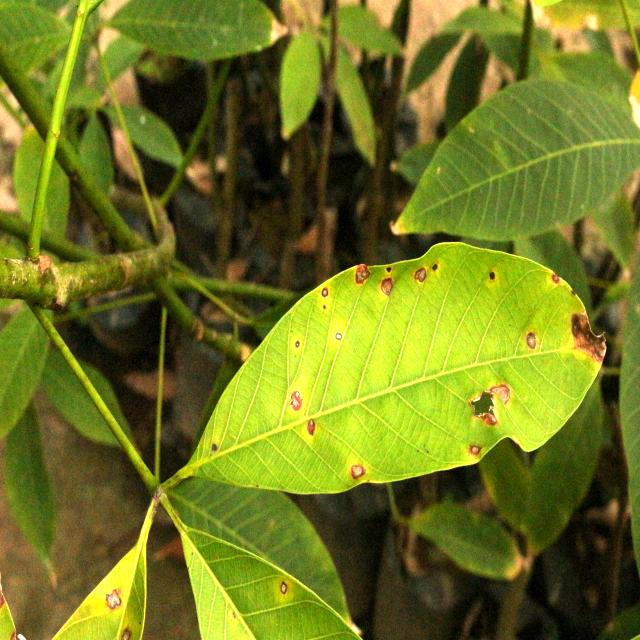Colletotrichum: (356, 264, 371, 284), (350, 464, 366, 480), (381, 277, 394, 296), (414, 268, 427, 282), (526, 332, 536, 349), (471, 445, 480, 455), (281, 581, 287, 595), (321, 287, 329, 297), (489, 272, 495, 280), (336, 333, 342, 340), (386, 266, 392, 273), (432, 264, 438, 270), (295, 341, 300, 347)
Leaf-Blight: (572, 310, 607, 362)
